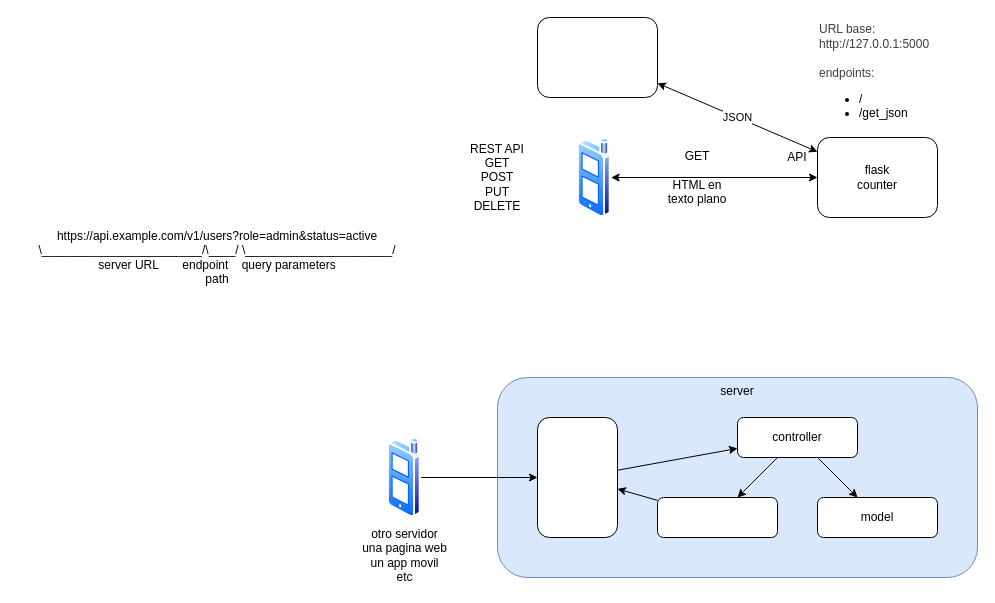
The diagram is 995 pixels wide and 603 high, and some of its shapes have lost their labels. Here are the shapes that lost their labels. From the top down, the centre of each, then its label:
point 597,57: servicio x JSON
point 577,477: Flask API
point 717,517: view
